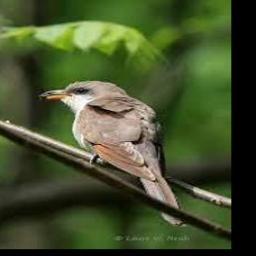Cuckoo: (40, 81, 185, 228)
